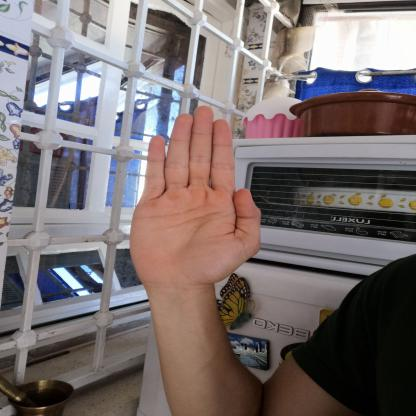SEEN: (116, 95, 270, 294)
